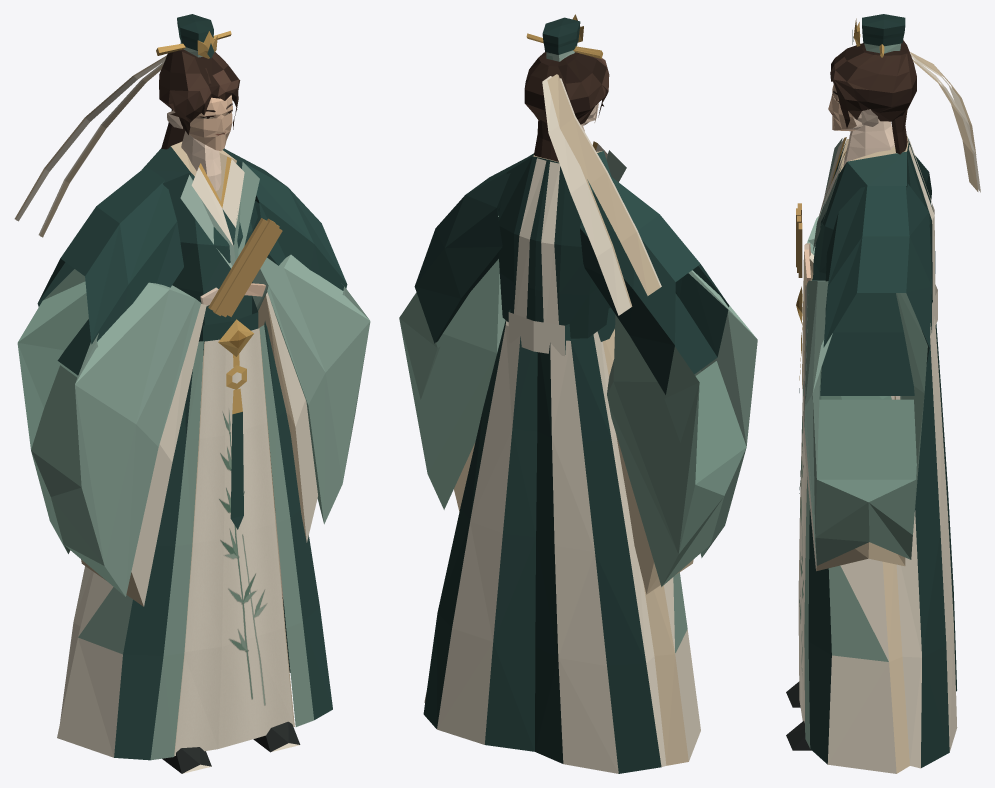
The model's file is caozhi.obj.
3 views of the same model, side by side, from view 1: azimuth 30°, elevation 25°; view 2: azimuth 150°, elevation 25°; view 3: azimuth 270°, elevation 25° (orthographic).
Visible parts, largest first — view 1: CAO_Long_robe, CAO_Near_hanging_sleeve, CAO_Far_hanging_sleeve, CAO_Swept_hair, CAO_Hairpin, CAO_Visible_hand, CAO_Sash_tail, CAO_Faceless_profile, CAO_Gold_sash, CAO_Neck, CAO_Topknot; view 2: CAO_Long_robe, CAO_Near_hanging_sleeve, CAO_Far_hanging_sleeve, CAO_Hairpin, CAO_Swept_hair, CAO_Gold_sash, CAO_Topknot; view 3: CAO_Long_robe, CAO_Far_hanging_sleeve, CAO_Swept_hair, CAO_Hairpin, CAO_Topknot, CAO_Neck, CAO_Faceless_profile, CAO_Near_hanging_sleeve, CAO_Visible_hand, CAO_Gold_sash.
Boxes of the visible parts, box(x1,y1,x2,y2) form: CAO_Long_robe: box(57, 141, 332, 773); CAO_Near_hanging_sleeve: box(17, 167, 206, 606); CAO_Far_hanging_sleeve: box(227, 150, 370, 542); CAO_Swept_hair: box(159, 49, 240, 149); CAO_Hairpin: box(14, 31, 231, 237); CAO_Visible_hand: box(200, 218, 282, 317); CAO_Sash_tail: box(226, 354, 246, 529); CAO_Faceless_profile: box(167, 95, 232, 150); CAO_Gold_sash: box(199, 296, 258, 356); CAO_Neck: box(181, 131, 221, 191); CAO_Topknot: box(177, 14, 213, 57); CAO_Long_robe: box(423, 141, 700, 773); CAO_Near_hanging_sleeve: box(580, 176, 757, 594); CAO_Far_hanging_sleeve: box(399, 158, 525, 511); CAO_Hairpin: box(526, 14, 661, 315); CAO_Swept_hair: box(524, 52, 609, 161); CAO_Gold_sash: box(508, 308, 615, 356); CAO_Topknot: box(542, 17, 580, 61); CAO_Long_robe: box(786, 135, 957, 773); CAO_Far_hanging_sleeve: box(803, 183, 931, 571); CAO_Swept_hair: box(830, 40, 916, 154); CAO_Hairpin: box(852, 18, 980, 192); CAO_Topknot: box(862, 14, 905, 53); CAO_Neck: box(843, 119, 894, 166); CAO_Faceless_profile: box(828, 84, 878, 131); CAO_Near_hanging_sleeve: box(802, 155, 931, 390); CAO_Visible_hand: box(796, 203, 810, 282); CAO_Gold_sash: box(796, 278, 937, 332).
Size of the model in its own units: 0.8176 by 1.86 by 0.467.
Materials: 6 (5 with a texture image).
